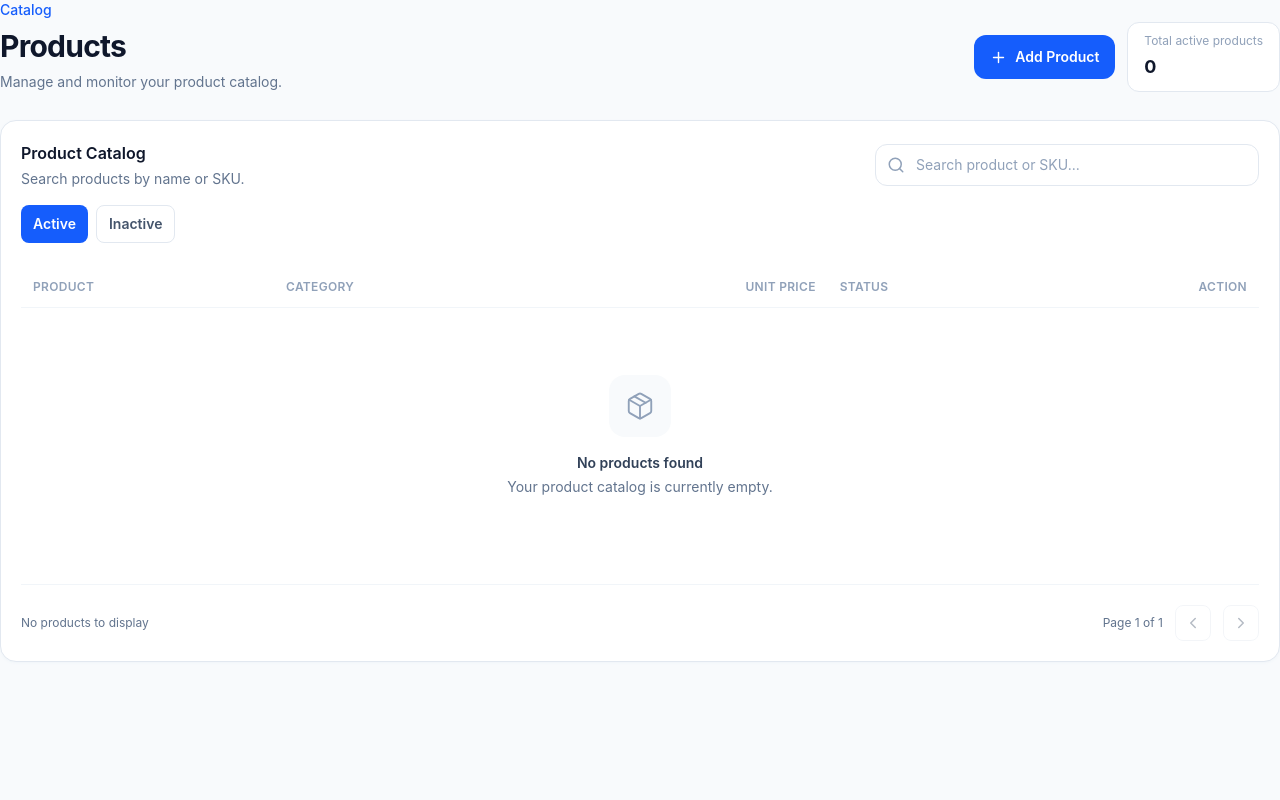
Test case: ProductsPage › lets ADMIN browse inactive products and reactivate after confirmation
This screenshot has width=1280, height=800.
Click the button "Inactive".
click(136, 224)  # box [96,205,176,243]
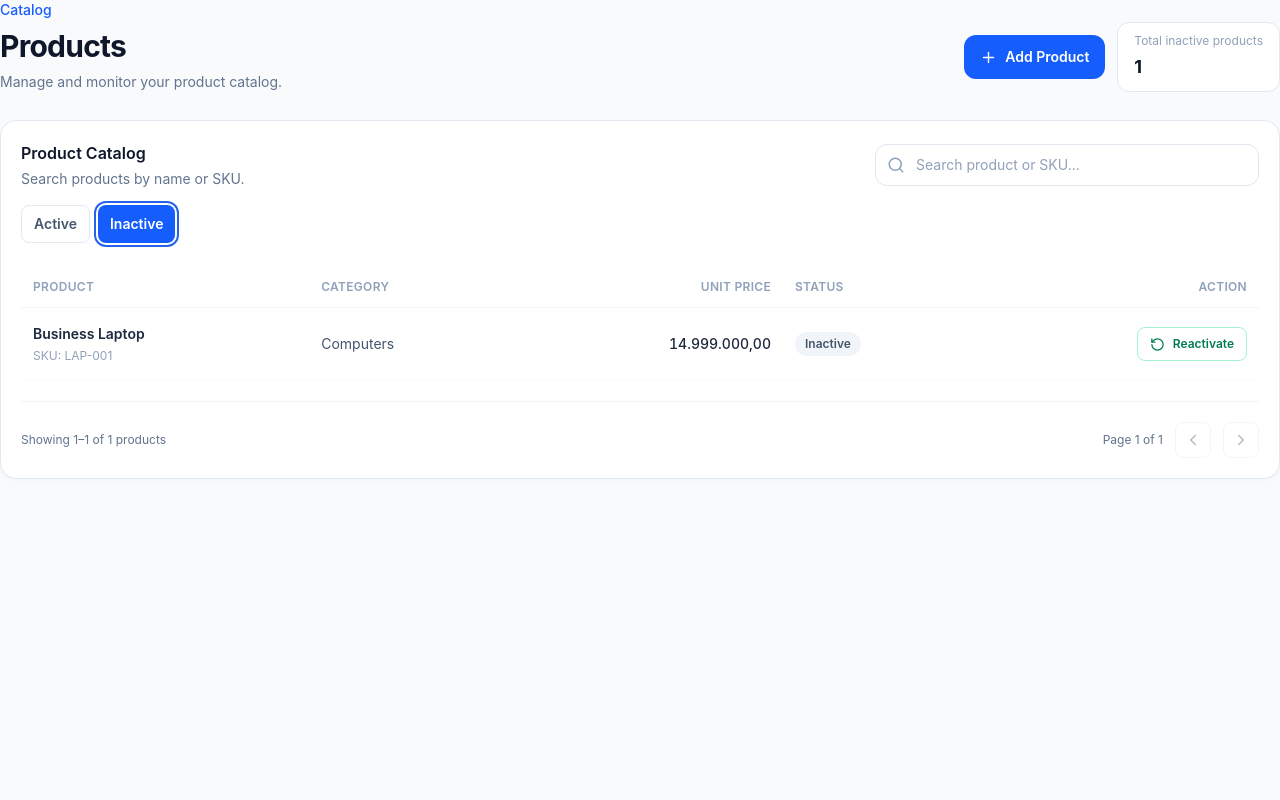
Check: the text "Business Laptop" is shown, box [33,325,145,342]
Check: the text "Inactive" is shown, box [795,332,861,356]
Check: the button with aria-label "Reactivate Business Laptop" is shown
Click the button with aria-label "Reactivate Business Laptop".
click(1192, 344)  # box [1137,327,1247,361]
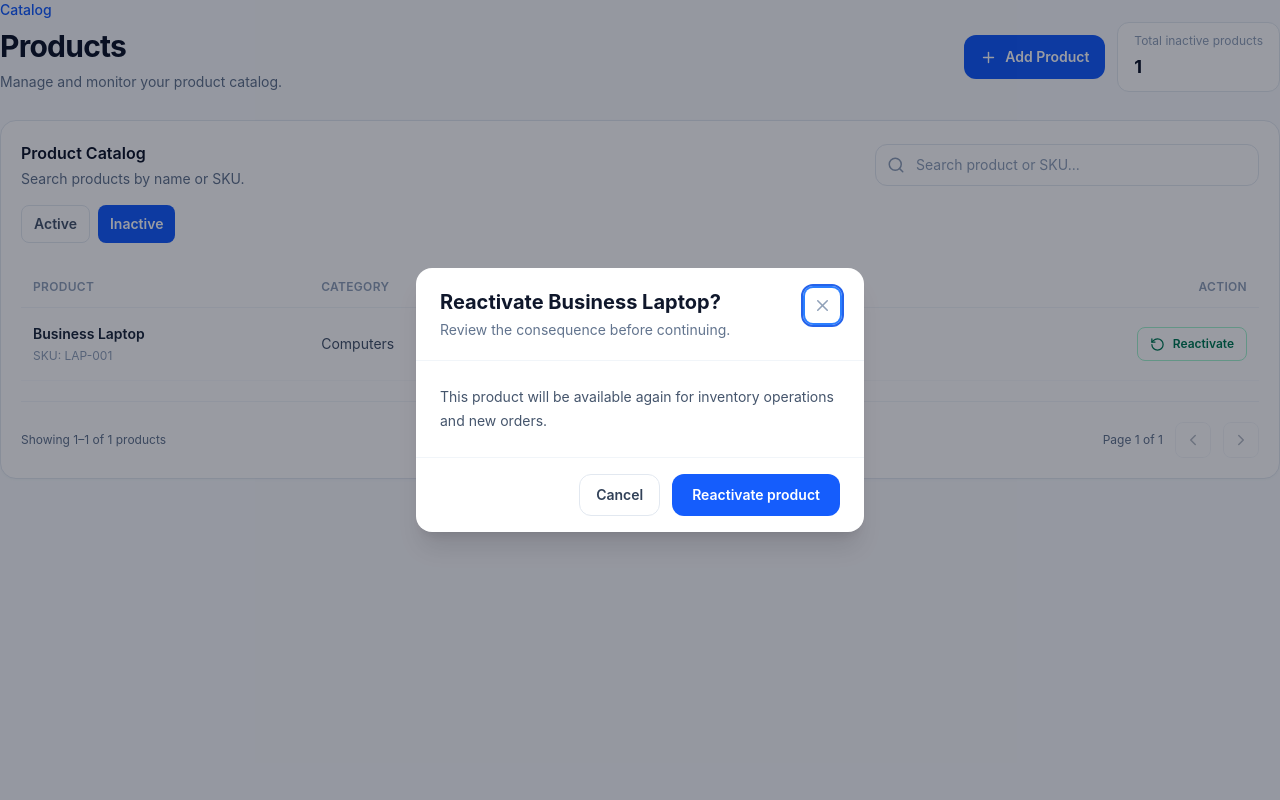
Click the button "Reactivate product".
click(756, 495)  # box [672,474,840,516]
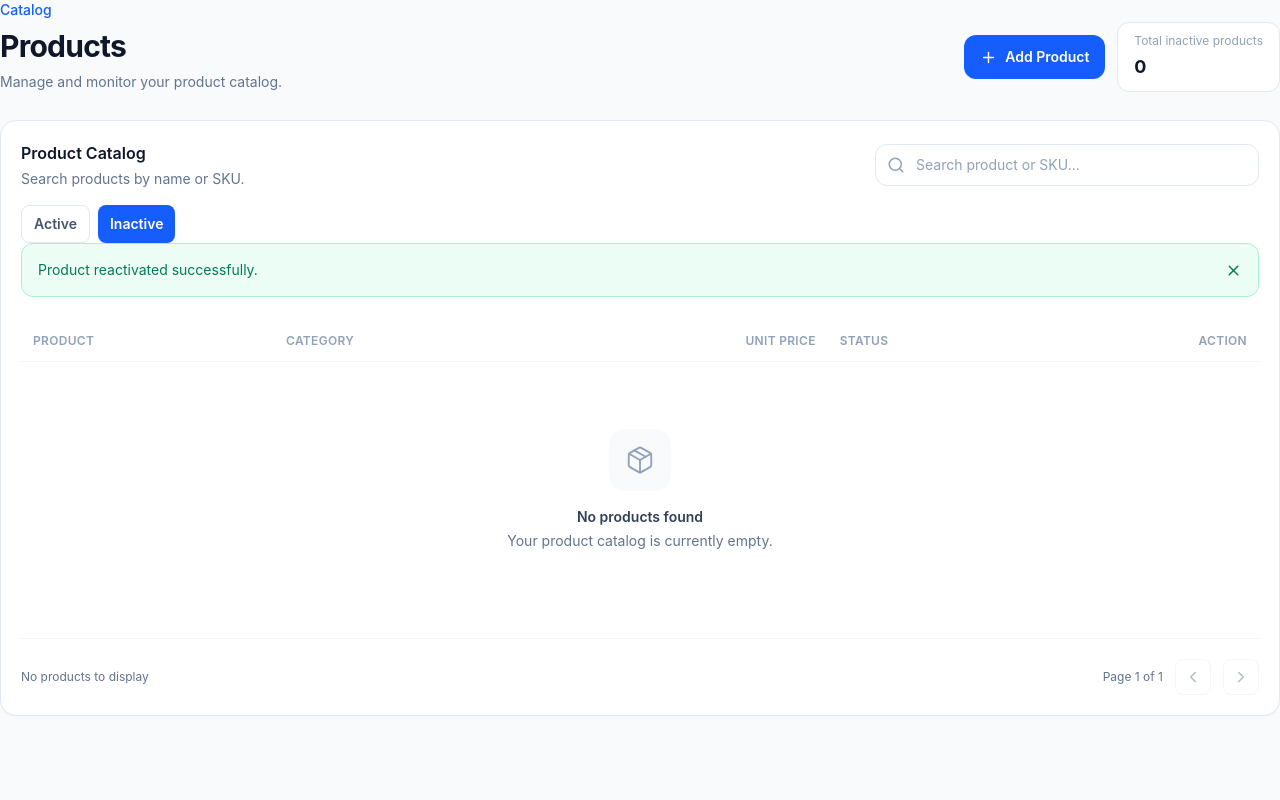
Check: the message reads "Product reactivated successfully.", box [38,261,258,278]
Click the button "Active".
click(56, 224)  # box [21,205,90,243]
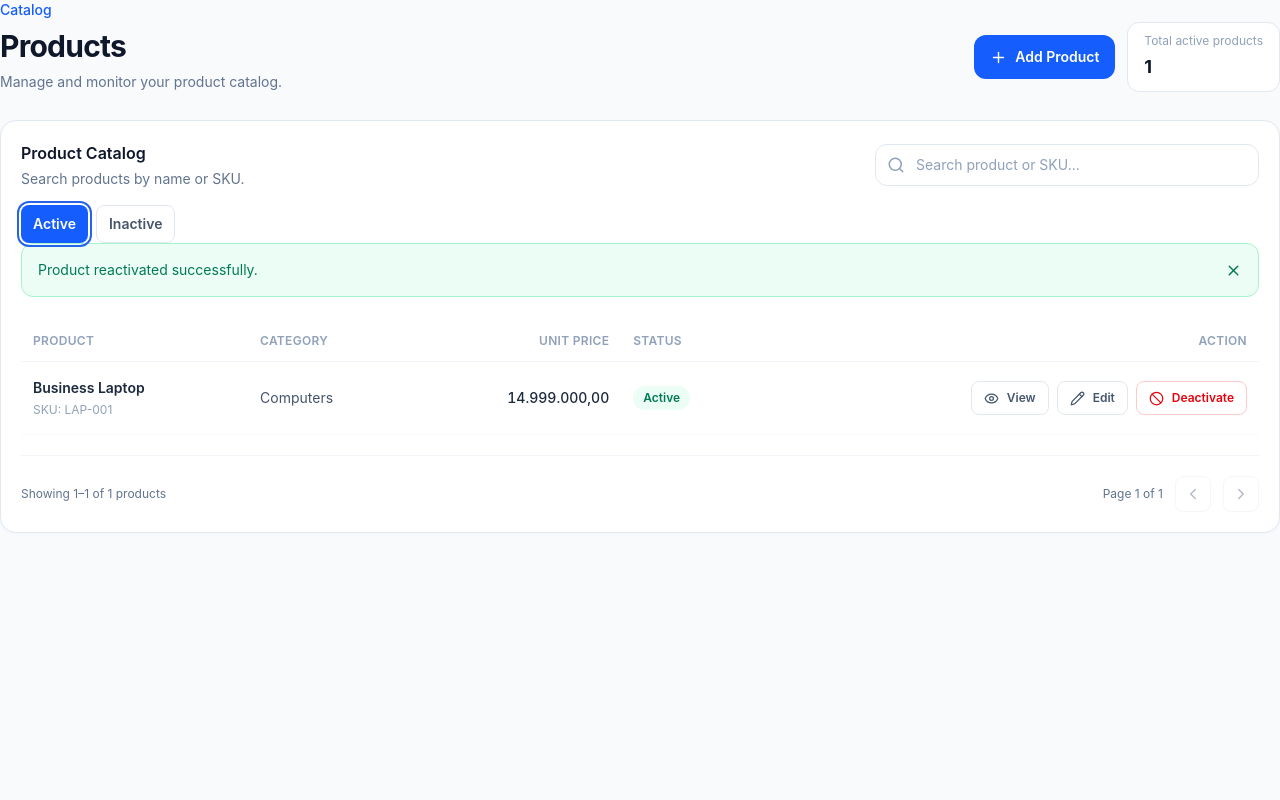
Check: the text "Business Laptop" is shown, box [33,379,145,396]
